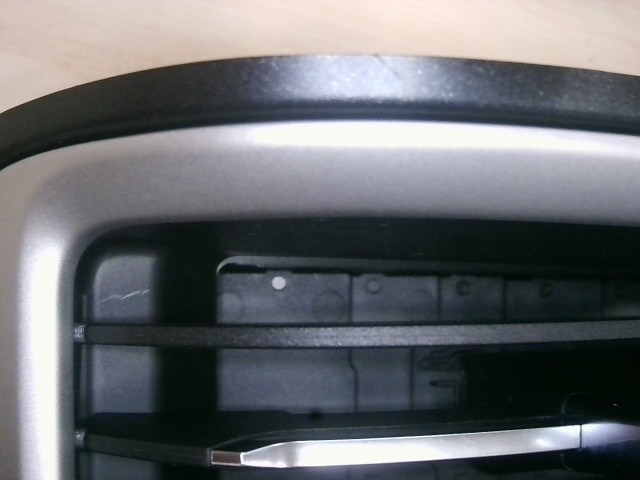NG: (356, 48, 424, 105)
